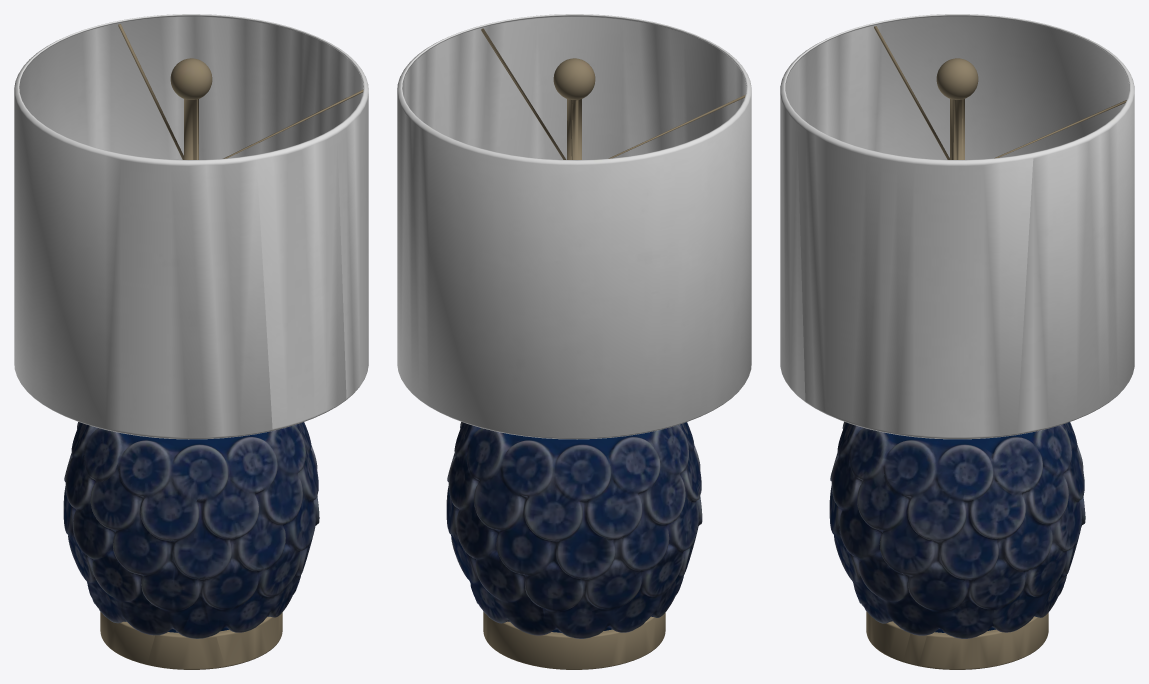
The model's file is B0825CZCLB.glb.
3 renders of one model, left to right at view 1: azimuth 30°, elevation 25°; view 2: azimuth 150°, elevation 25°; view 3: azimuth 270°, elevation 25°, orthographic.
Parts seen in each view (by area): view 1: RootNode; view 2: RootNode; view 3: RootNode.
Boxes of the visible parts, x1,y1,x2,y2 form: RootNode: (14,14,368,669); RootNode: (397,14,751,669); RootNode: (780,14,1134,669).
Size of the model in its own units: 0.2538 by 0.4521 by 0.2538.
Materials: 1 (1 with a texture image).
